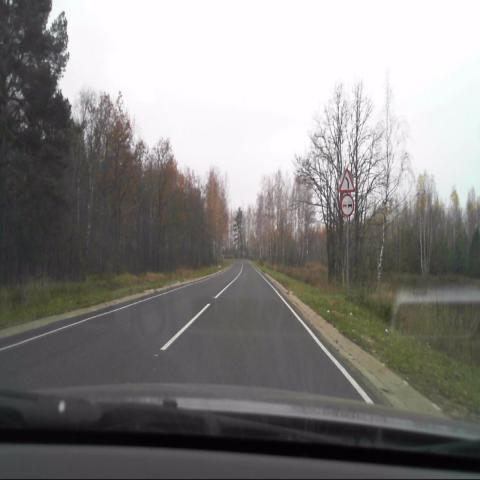1_11_1: (340, 168, 354, 192)
